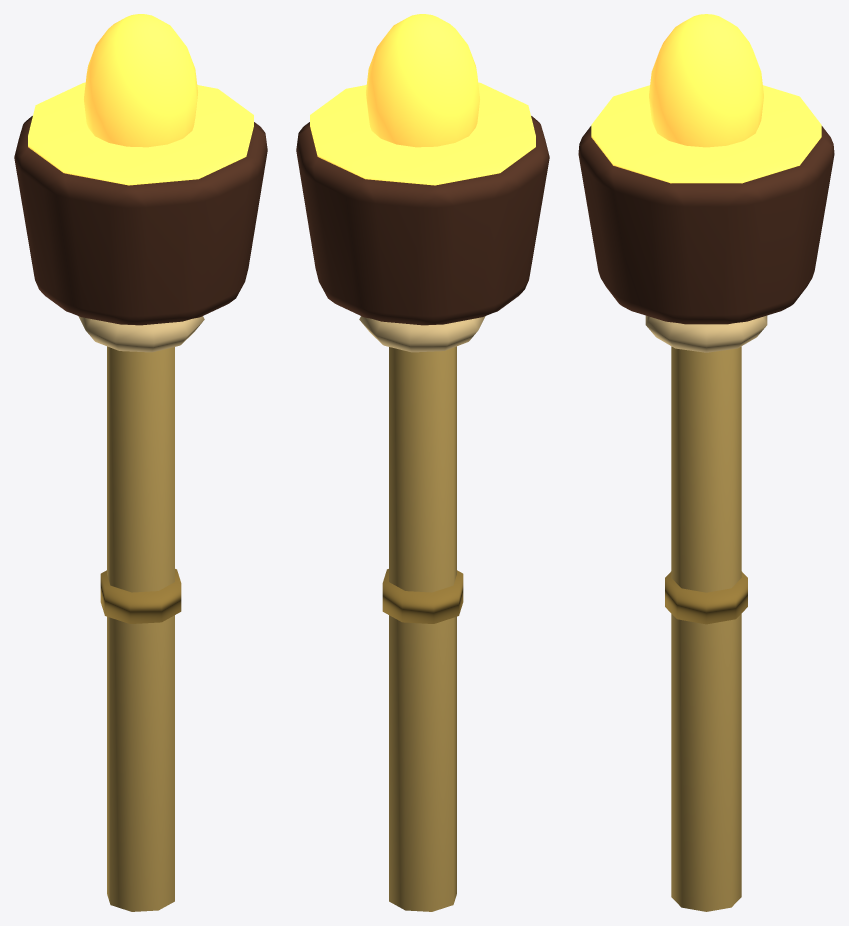
The model's file is lava_exit_torch.glb.
The picture shows the model from 3 angles, left to right: view 1: azimuth 30°, elevation 25°; view 2: azimuth 150°, elevation 25°; view 3: azimuth 270°, elevation 25°; orthographic projection.
Visible parts, largest first — view 1: ExitTorch; view 2: ExitTorch; view 3: ExitTorch.
Part boxes in pixels (x1=…): ExitTorch: x1=14, y1=14, x2=267, y2=911; ExitTorch: x1=296, y1=14, x2=549, y2=911; ExitTorch: x1=578, y1=14, x2=834, y2=911.
Bounding box in the file's own units: 0.3908 × 1.51 × 0.3998.
